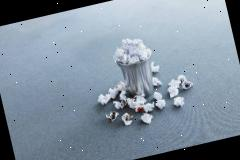paper: (109, 33, 152, 67), (96, 91, 111, 105), (104, 110, 120, 122), (139, 112, 153, 125), (120, 112, 134, 125), (166, 84, 179, 98), (172, 96, 185, 108), (107, 85, 118, 98), (149, 59, 160, 72), (152, 90, 162, 100)
